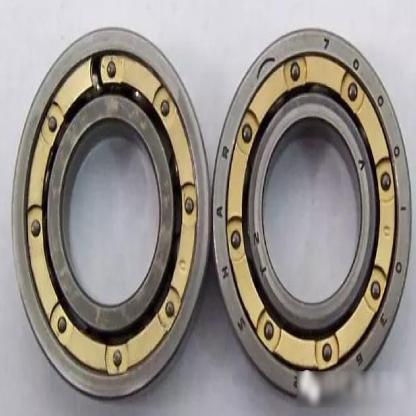FOD: (7, 21, 211, 406), (210, 22, 412, 406)
